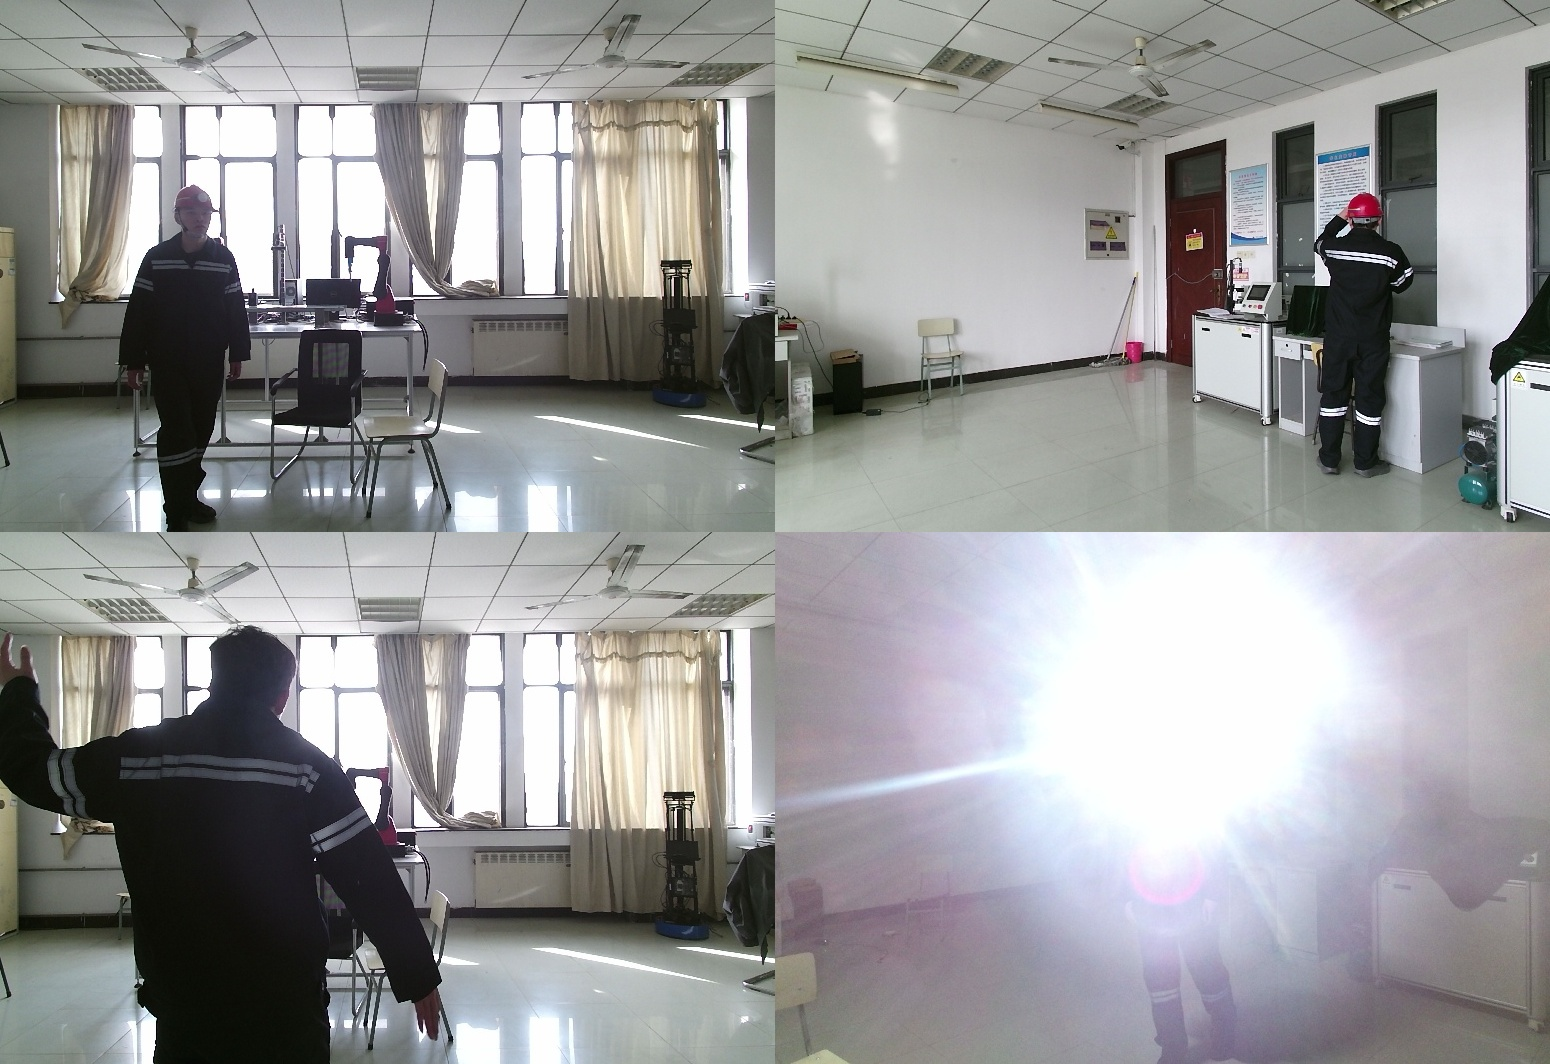person: (1, 629, 451, 1064), (121, 187, 251, 532), (1125, 708, 1250, 1064), (1315, 192, 1440, 479)
